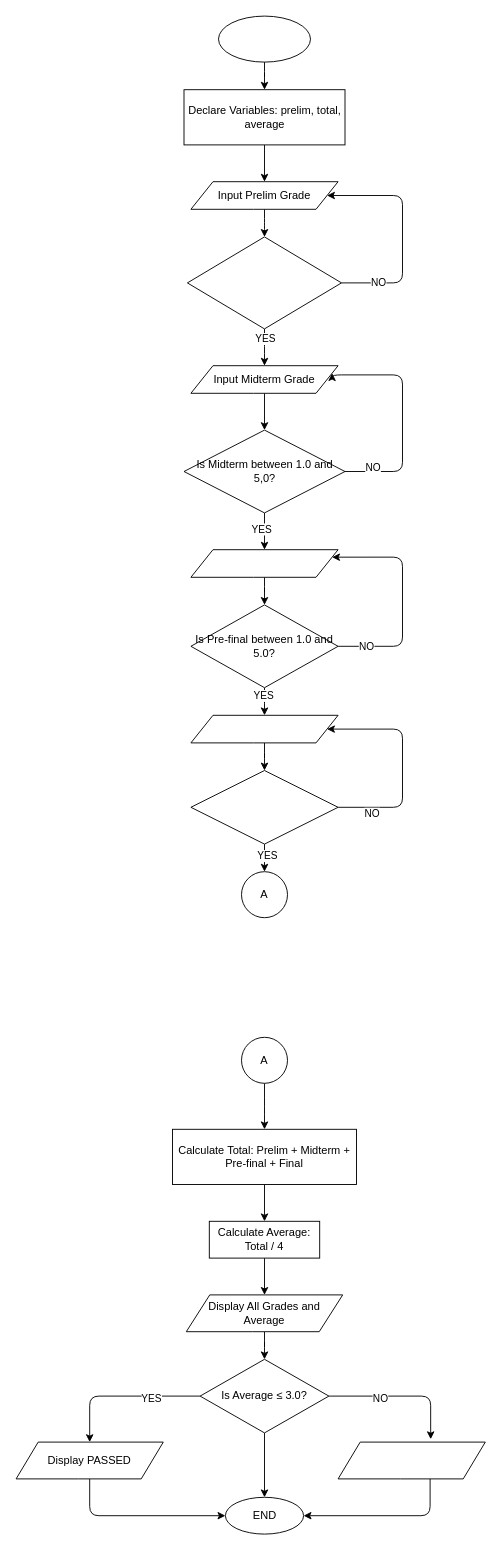
This 501x1550 diagram has some shape labels left out. Each missing label, with the box of its shape:
Display FAILED: (337, 1441, 485, 1479)
Input Final Grade: (190, 714, 338, 743)
Input Pre- Final Grade: (190, 549, 338, 577)
Is Final between 1.0 and 5.0?: (190, 770, 338, 844)
Is Prelim between 1,0 and 5.0?: (186, 236, 342, 329)
START: (218, 15, 310, 62)
